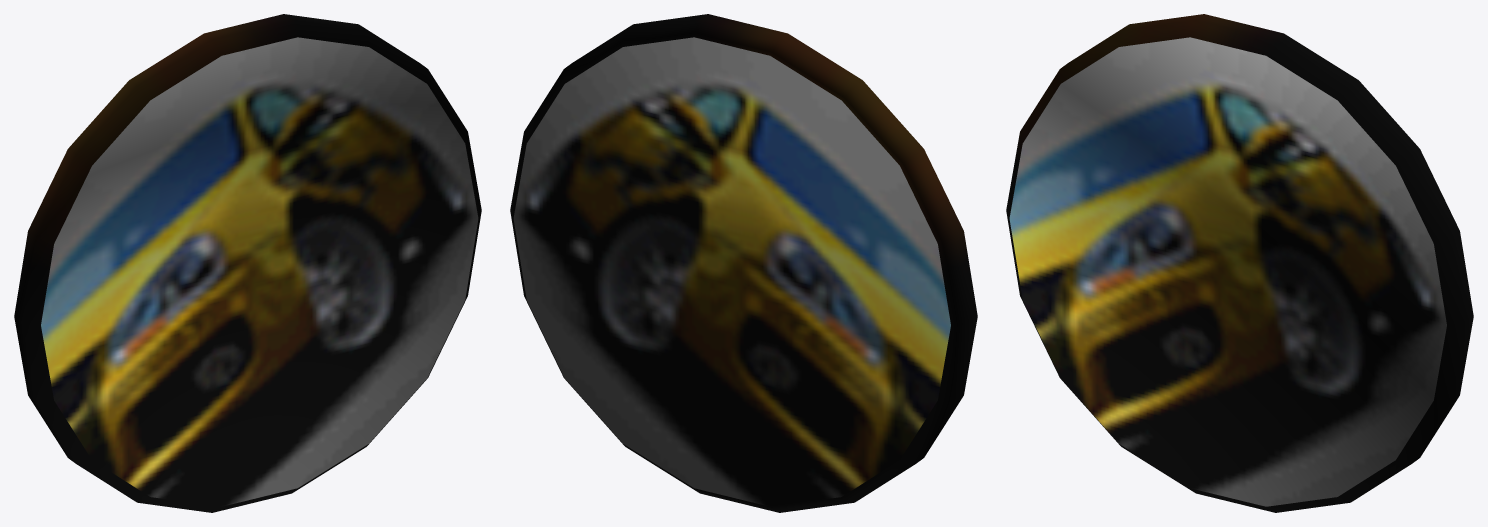
Rendered from SP_ICON.icn.obj.
3 views of the same model, side by side, from view 1: azimuth 30°, elevation 25°; view 2: azimuth 150°, elevation 25°; view 3: azimuth 330°, elevation 25° (orthographic).
Bounding box in the file's own units: 4.01 × 3.95 × 0.3538.
Materials: 1 (1 with a texture image).
